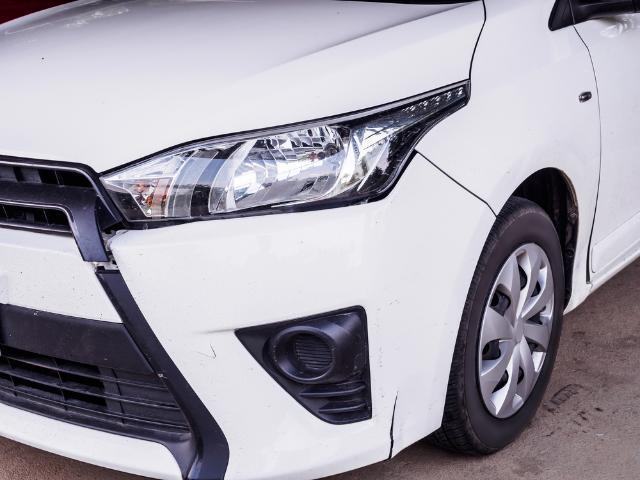crack: (388, 387, 399, 459)
